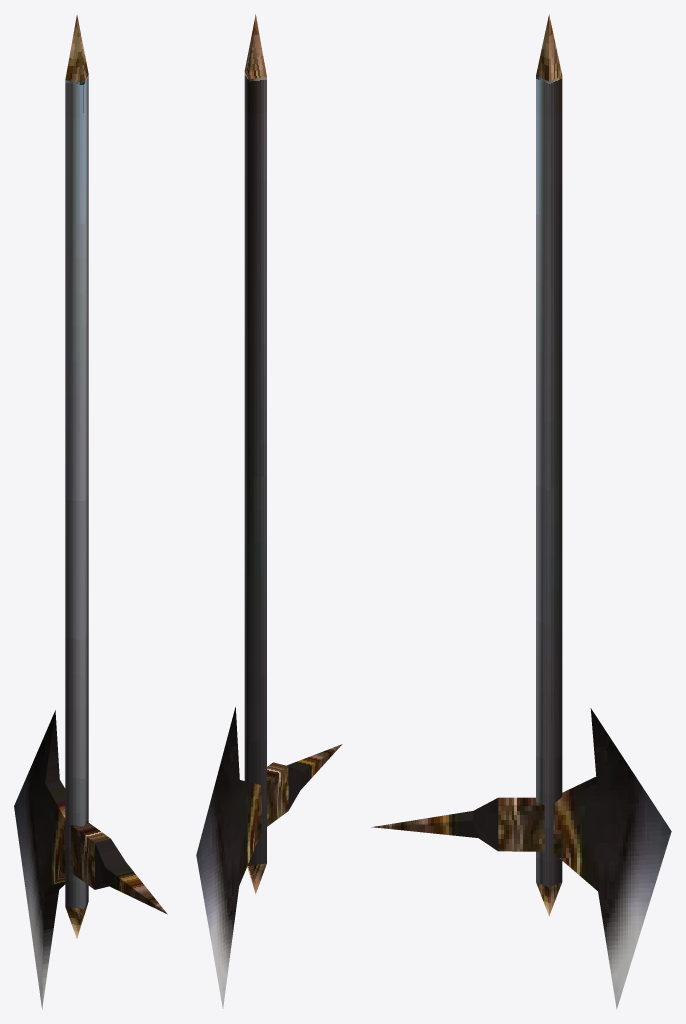
File: Spear07.glb
The picture shows the model from 3 angles, left to right: view 1: azimuth 30°, elevation 25°; view 2: azimuth 150°, elevation 25°; view 3: azimuth 270°, elevation 25°; orthographic projection. The views are drawn at different scales.
Visible parts, largest first — view 1: model_Spear07; view 2: model_Spear07; view 3: model_Spear07.
Part boxes in pixels (bbox=[...]): model_Spear07: bbox=[14, 15, 167, 1009]; model_Spear07: bbox=[196, 14, 342, 1008]; model_Spear07: bbox=[371, 14, 671, 1009].
Size of the model in its own units: 0.0521 by 2.16 by 0.5903.
1 material, 1 textured.
